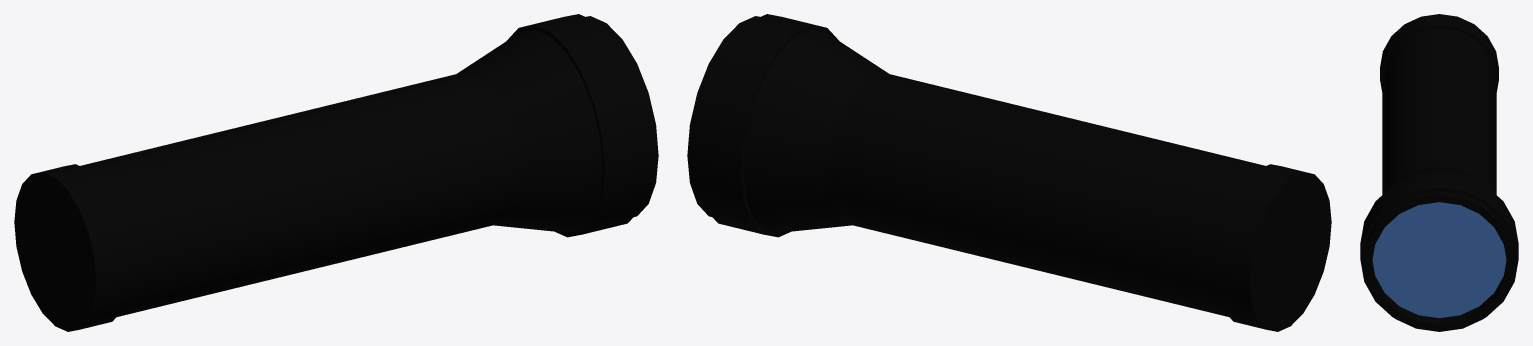
The model's file is LampeTorche.fbx.
3 views of the same model, side by side, from view 1: azimuth 30°, elevation 25°; view 2: azimuth 150°, elevation 25°; view 3: azimuth 270°, elevation 25° (orthographic). The views are drawn at different scales.
Parts seen in each view (by area): view 1: pCylinder1; view 2: pCylinder1; view 3: pCylinder1.
Boxes of the visible parts, bbox=[...] form: pCylinder1: bbox=[14, 14, 658, 331]; pCylinder1: bbox=[687, 14, 1331, 331]; pCylinder1: bbox=[1360, 14, 1518, 331].
Bounding box in the file's own units: 8.1 × 2.77 × 2.77.
